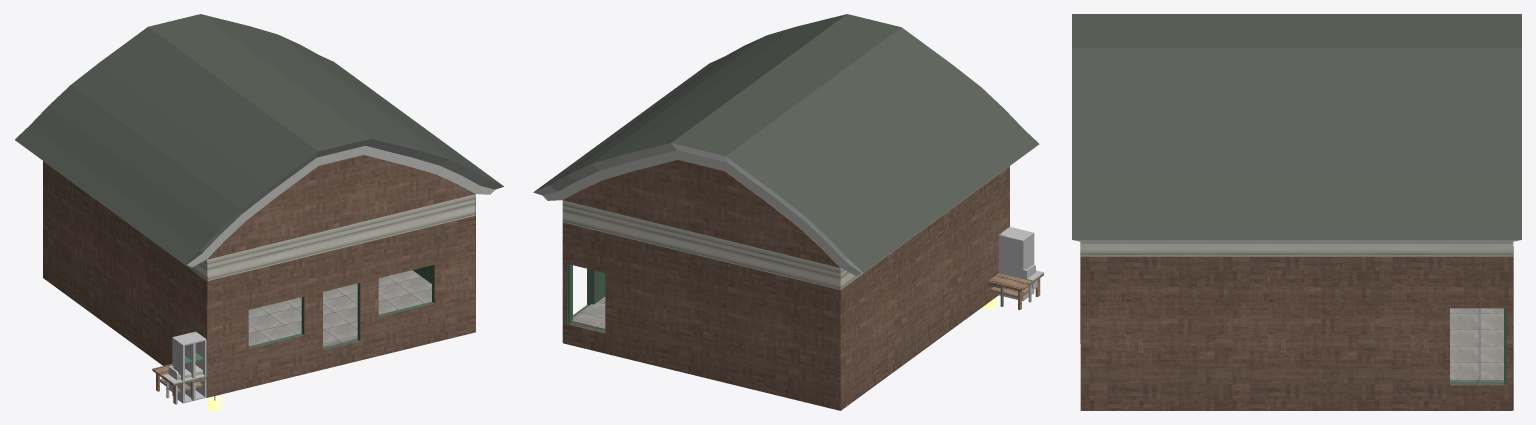
File: 薰香店.fbx
3 views of the same model, side by side, from view 1: azimuth 30°, elevation 25°; view 2: azimuth 150°, elevation 25°; view 3: azimuth 270°, elevation 25° (orthographic). The views are drawn at different scales.
Visible parts, largest first — view 1: 外, 薰香店屋頂, 地板2, 櫃子.002, 內, 桌子23, 桌子22; view 2: 外, 薰香店屋頂, 櫃子.002, 內, 桌子22, 地板2, 桌子23; view 3: 薰香店屋頂, 外, 地板2.
Part boxes in pixels (bbox=[...]): 外: bbox=[43, 155, 475, 397]; 薰香店屋頂: bbox=[15, 14, 503, 267]; 地板2: bbox=[248, 270, 431, 347]; 櫃子.002: bbox=[172, 332, 206, 403]; 內: bbox=[248, 265, 434, 349]; 桌子23: bbox=[163, 365, 206, 404]; 桌子22: bbox=[152, 364, 206, 403]; 外: bbox=[562, 159, 1009, 410]; 薰香店屋頂: bbox=[533, 14, 1039, 276]; 櫃子.002: bbox=[998, 227, 1034, 300]; 內: bbox=[567, 264, 605, 332]; 桌子22: bbox=[987, 273, 1043, 309]; 地板2: bbox=[572, 296, 605, 330]; 桌子23: bbox=[998, 264, 1043, 302]; 薰香店屋頂: bbox=[1072, 14, 1521, 243]; 外: bbox=[1080, 242, 1513, 410]; 地板2: bbox=[1450, 308, 1503, 382].
Size of the model in its own units: 1759 by 1233 by 1587.
